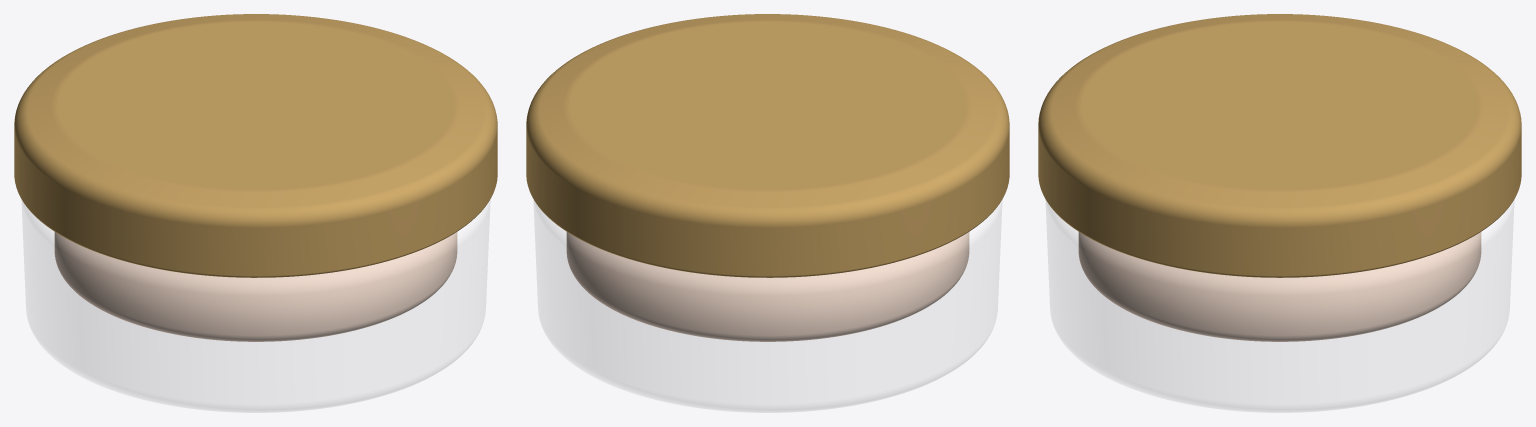
Rendered from cream-jar.glb.
3 views of the same model, side by side, from view 1: azimuth 30°, elevation 25°; view 2: azimuth 150°, elevation 25°; view 3: azimuth 270°, elevation 25° (orthographic).
Visible parts, largest first — view 1: lid, glass-body, cream; view 2: lid, glass-body, cream; view 3: lid, glass-body, cream.
Part boxes in pixels (x1=…): lid: x1=14, y1=14, x2=497, y2=277; glass-body: x1=21, y1=200, x2=490, y2=412; cream: x1=54, y1=232, x2=457, y2=341; lid: x1=526, y1=14, x2=1009, y2=277; glass-body: x1=533, y1=200, x2=1002, y2=412; cream: x1=566, y1=232, x2=969, y2=341; lid: x1=1038, y1=14, x2=1521, y2=277; glass-body: x1=1045, y1=200, x2=1514, y2=412; cream: x1=1078, y1=232, x2=1481, y2=341.
Bounding box in the file's own units: 0.864 × 0.4249 × 0.864.
